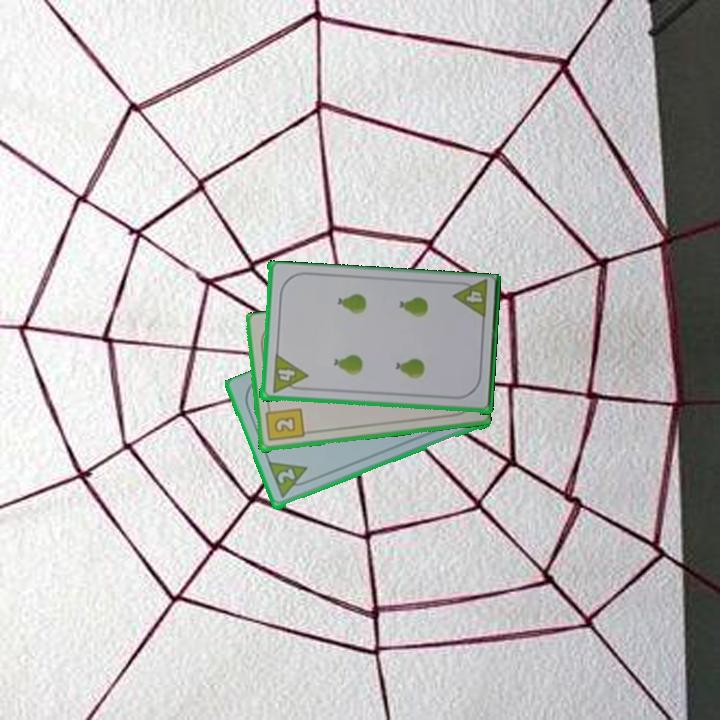2b: (261, 402, 306, 444)
2p: (273, 465, 298, 487)
4p: (449, 278, 491, 323), (268, 352, 309, 396)
